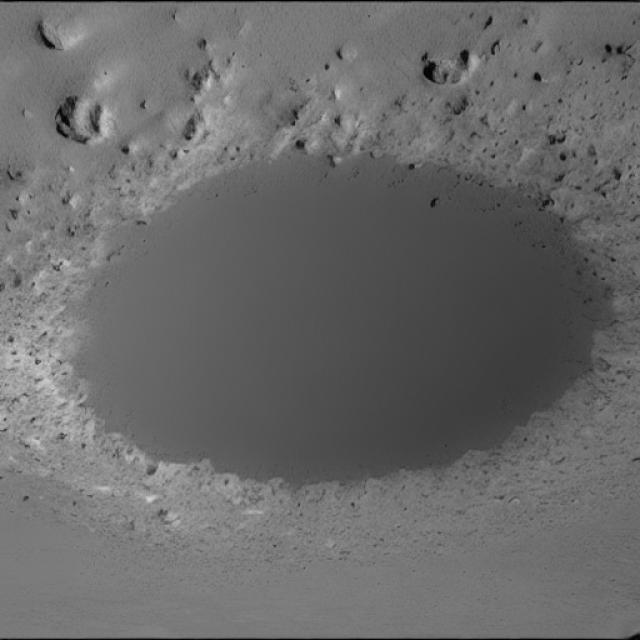crater: (62, 151, 614, 486)
